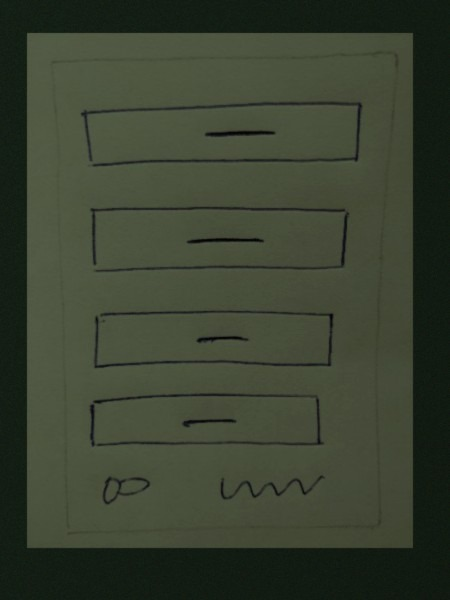button: (75, 96, 366, 175), (83, 201, 356, 275), (88, 301, 345, 372), (83, 388, 328, 457)
switch: (93, 468, 158, 511)
text: (209, 464, 328, 513)
